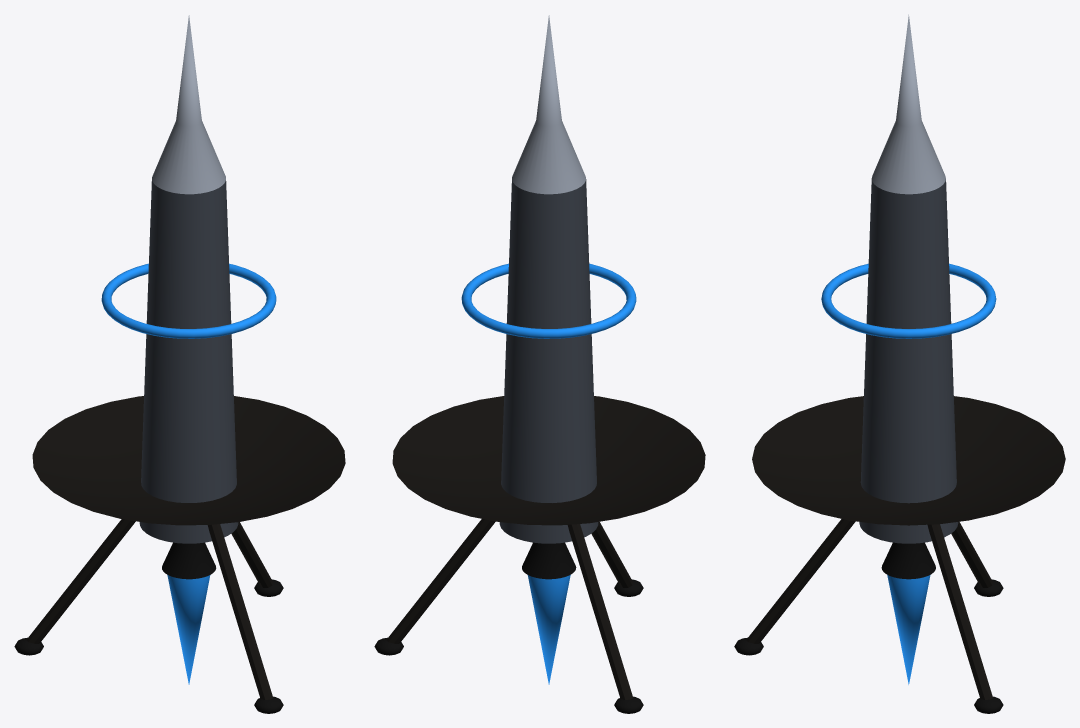
File: Rocket_23_TripodDish.obj
3 views of the same model, side by side, from view 1: azimuth 30°, elevation 25°; view 2: azimuth 150°, elevation 25°; view 3: azimuth 270°, elevation 25° (orthographic).
Visible parts, largest first — view 1: R23_Body, R23_Dish, R23_Nose, R23_Halo_1, R23_Leg_3, R23_Flame_1, R23_Leg_2, R23_Nozzle_1, R23_Leg_1; view 2: R23_Body, R23_Dish, R23_Nose, R23_Halo_1, R23_Leg_2, R23_Flame_1, R23_Leg_1, R23_Nozzle_1, R23_Leg_3; view 3: R23_Body, R23_Dish, R23_Nose, R23_Halo_1, R23_Leg_1, R23_Flame_1, R23_Leg_3, R23_Nozzle_1, R23_Leg_2.
Part boxes in pixels (x1,y1,x2,y2): R23_Body: (139, 180, 238, 543); R23_Dish: (32, 396, 345, 525); R23_Nose: (152, 15, 225, 194); R23_Halo_1: (101, 263, 276, 338); R23_Leg_3: (207, 524, 273, 699); R23_Flame_1: (167, 575, 210, 684); R23_Leg_2: (26, 519, 135, 643); R23_Nozzle_1: (162, 542, 216, 579); R23_Leg_1: (231, 522, 273, 587); R23_Body: (499, 179, 598, 543); R23_Dish: (392, 396, 705, 525); R23_Nose: (512, 15, 585, 194); R23_Halo_1: (461, 263, 636, 338); R23_Leg_2: (567, 524, 633, 699); R23_Flame_1: (527, 575, 570, 684); R23_Leg_1: (386, 519, 495, 643); R23_Nozzle_1: (522, 542, 576, 579); R23_Leg_3: (591, 521, 633, 587); R23_Body: (859, 179, 958, 543); R23_Dish: (752, 396, 1065, 525); R23_Nose: (871, 14, 945, 194); R23_Halo_1: (821, 263, 996, 338); R23_Leg_1: (927, 524, 992, 699); R23_Flame_1: (887, 575, 930, 684); R23_Leg_3: (746, 519, 855, 643); R23_Nozzle_1: (881, 542, 935, 579); R23_Leg_2: (951, 521, 992, 587).
Size of the model in its own units: 3.8 by 8.98 by 4.01.
